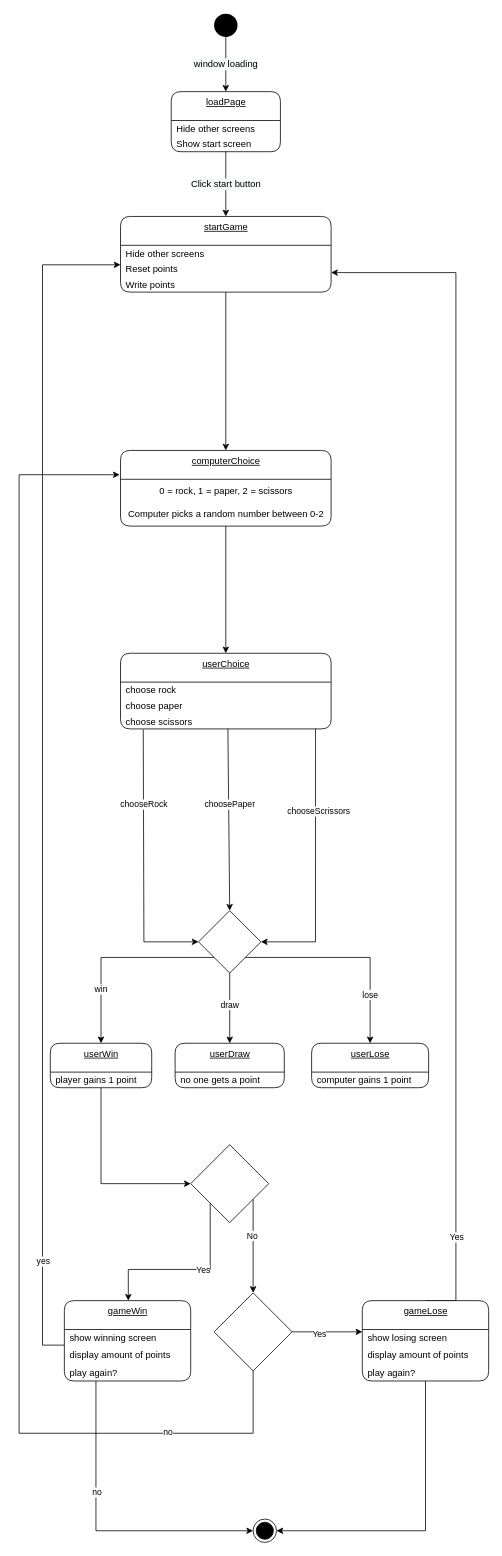
This 502x1556 diagram has some shape labels left out. The shapes that lost their labels are listed below. From the top down, each one's centre as x and y in pixels, then its label:
point (229, 941): Evaluate
point (229, 1183): does the player have 3 points?
point (252, 1331): does the computer have 3 points?
